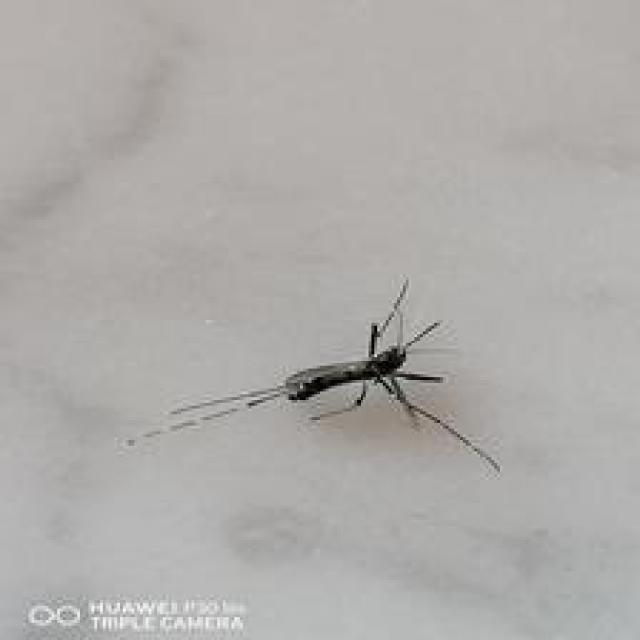Aedes albopictus: (123, 276, 503, 476)
